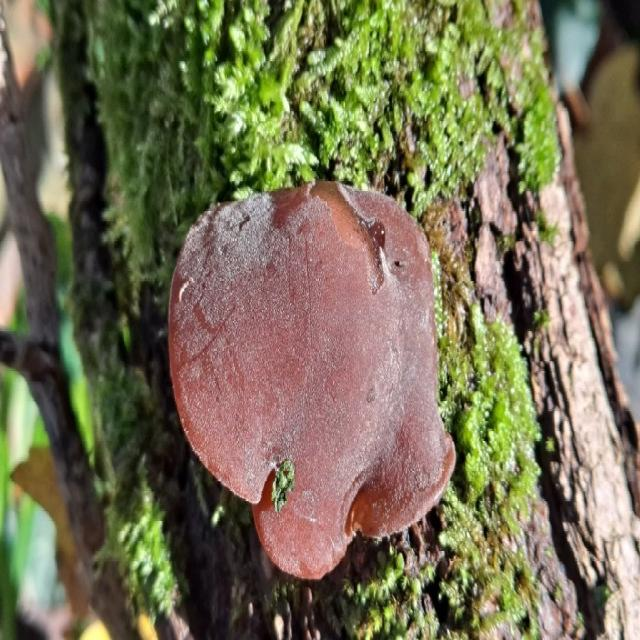Matang: (165, 174, 460, 581)
